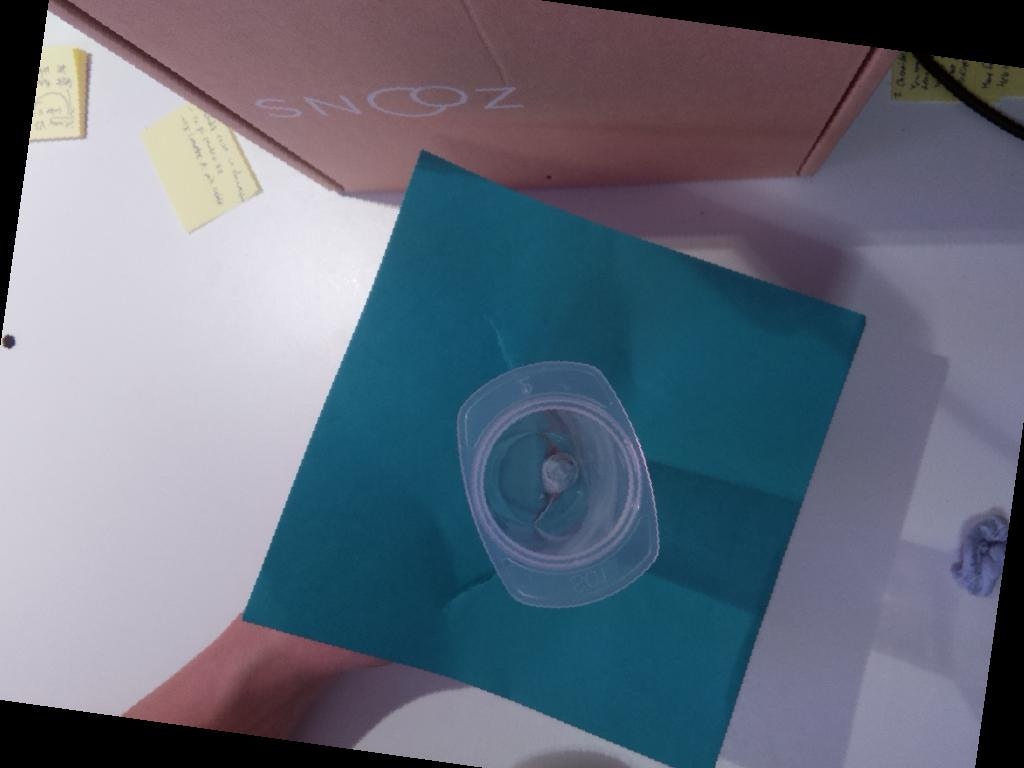clean: (443, 354, 670, 616)
